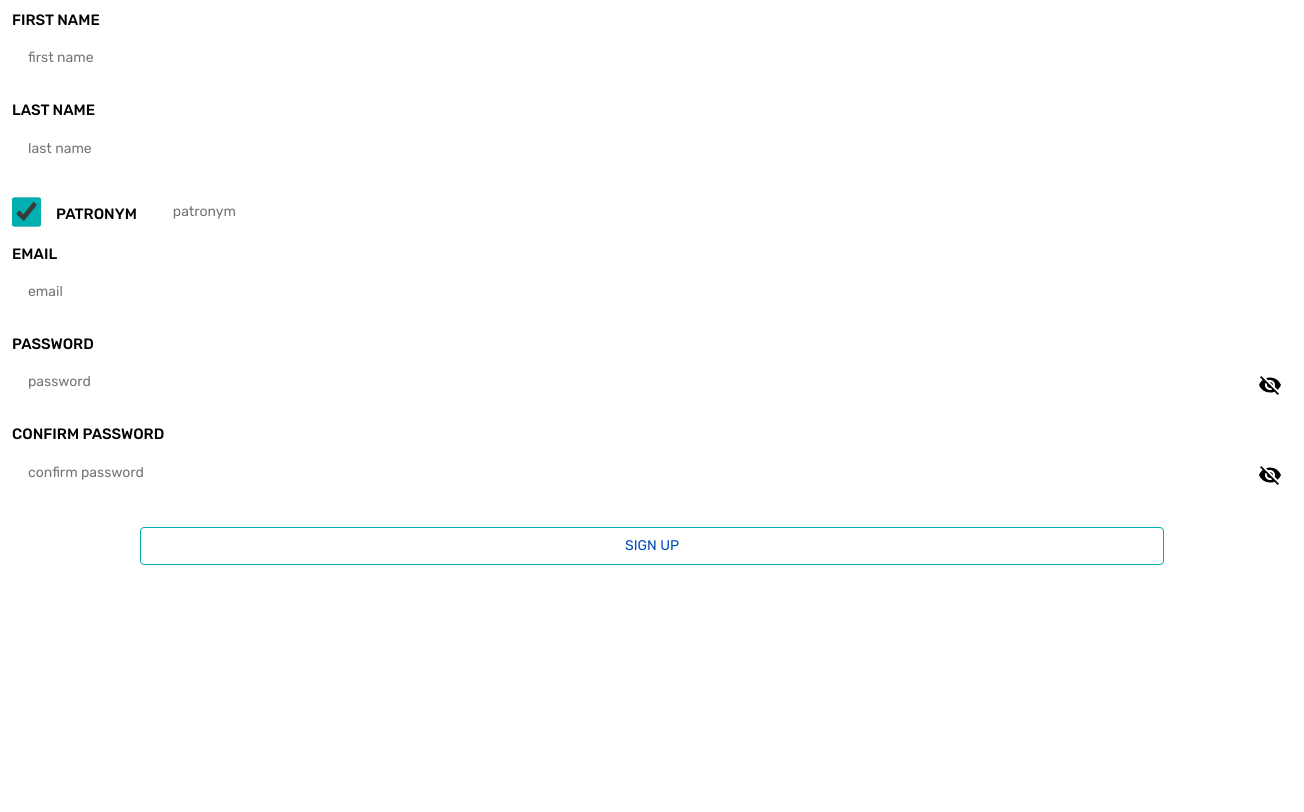
Test: SignUpForm component › Fill SignUpForm and submit with error
The width and height of the screenshot is (1304, 812).
Type "testm" into the field labelled "first name" at x=652, y=58, box [12,39,1292,77]
Type "test" into the field labelled "last name" at x=652, y=149, box [12,130,1292,168]
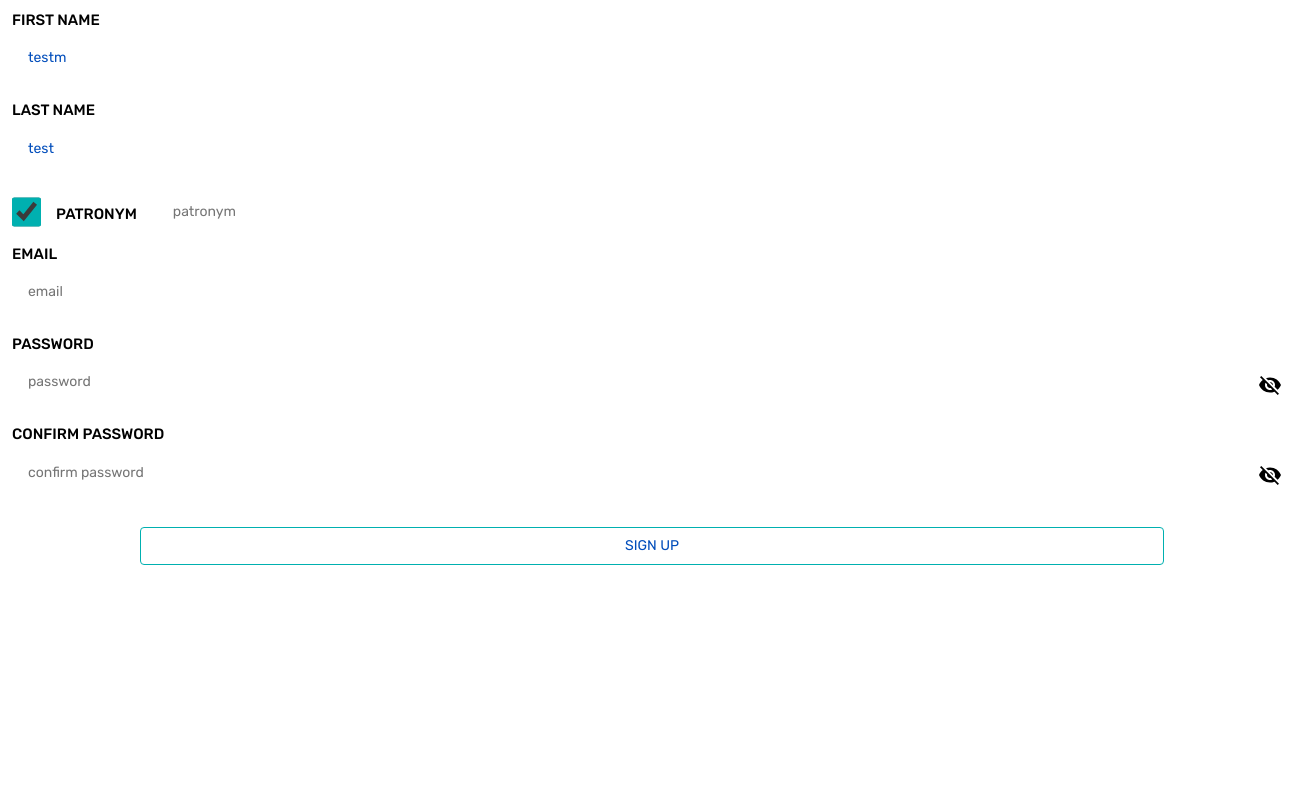
Type "test@test.com" into the field labelled "email" at x=652, y=292, box [12,273,1292,311]
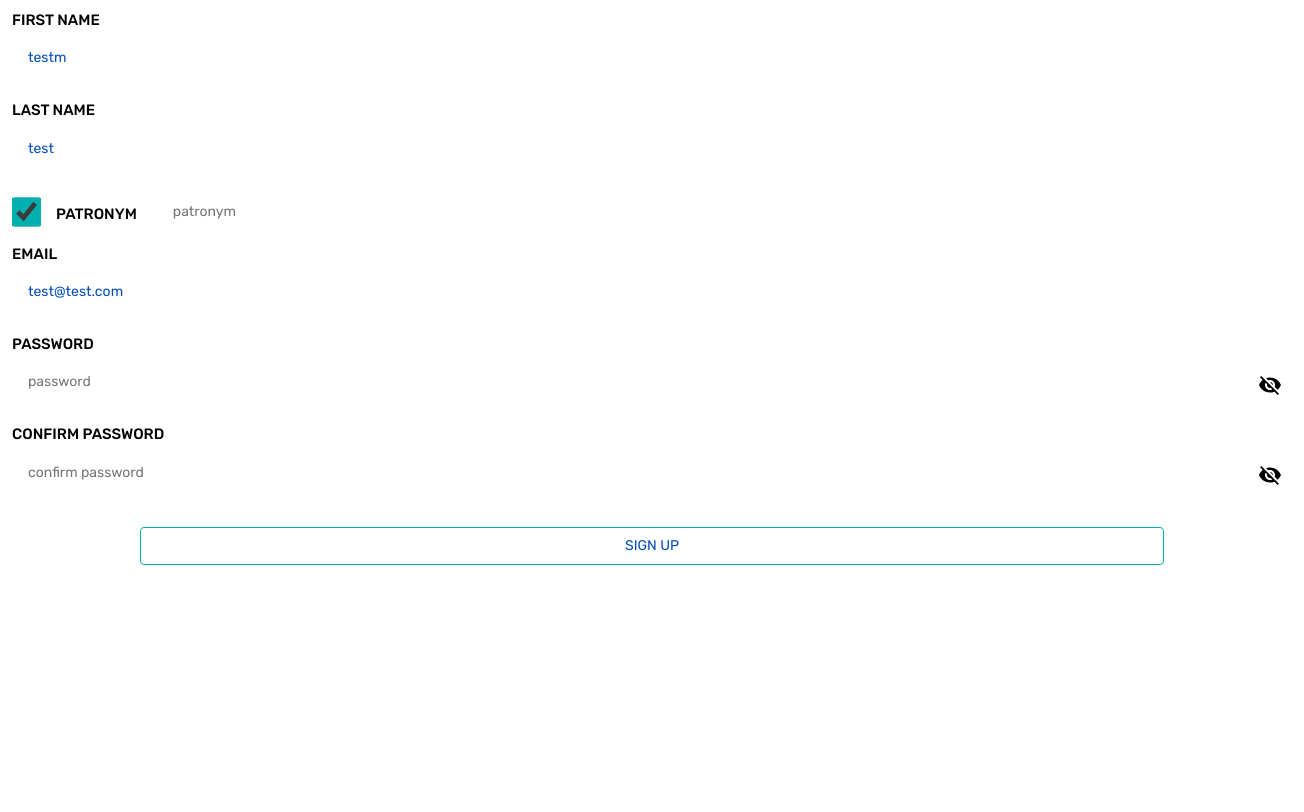
Type "test123" into the password field with test id "sign-up-input-password" at x=652, y=382, box [12,363,1292,402]
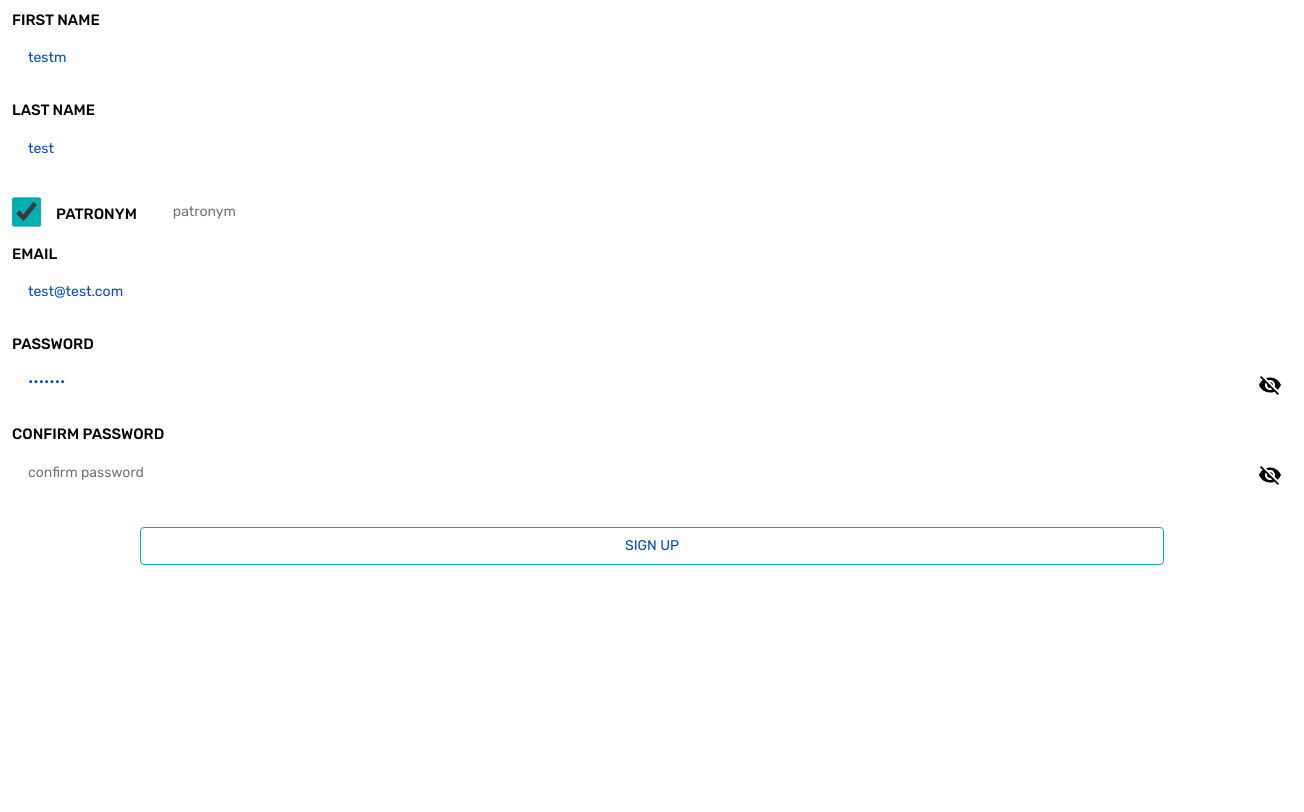
Type "test123" into the password field with test id "sign-up-input-password-confirm" at x=652, y=473, box [12,454,1292,492]
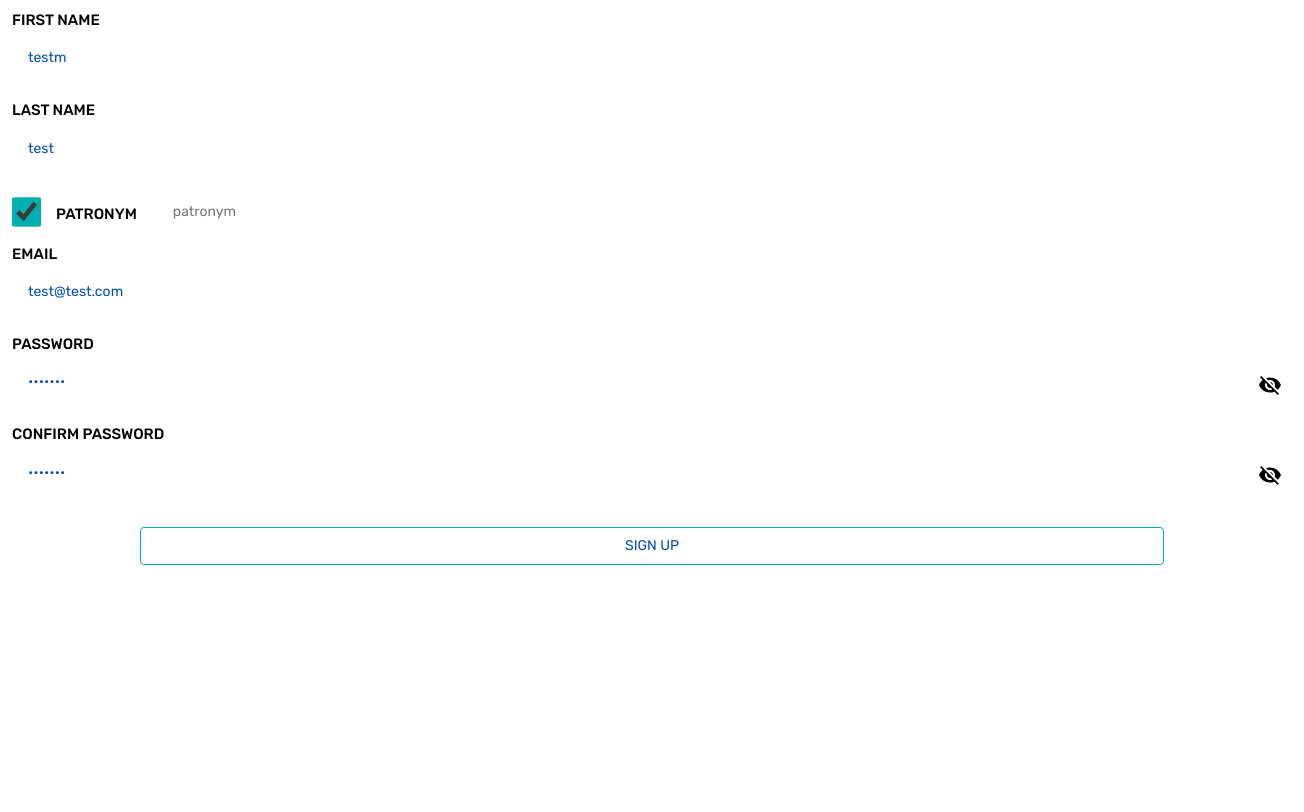
Click the checkbox at x=26, y=212, box [12,197,41,227]
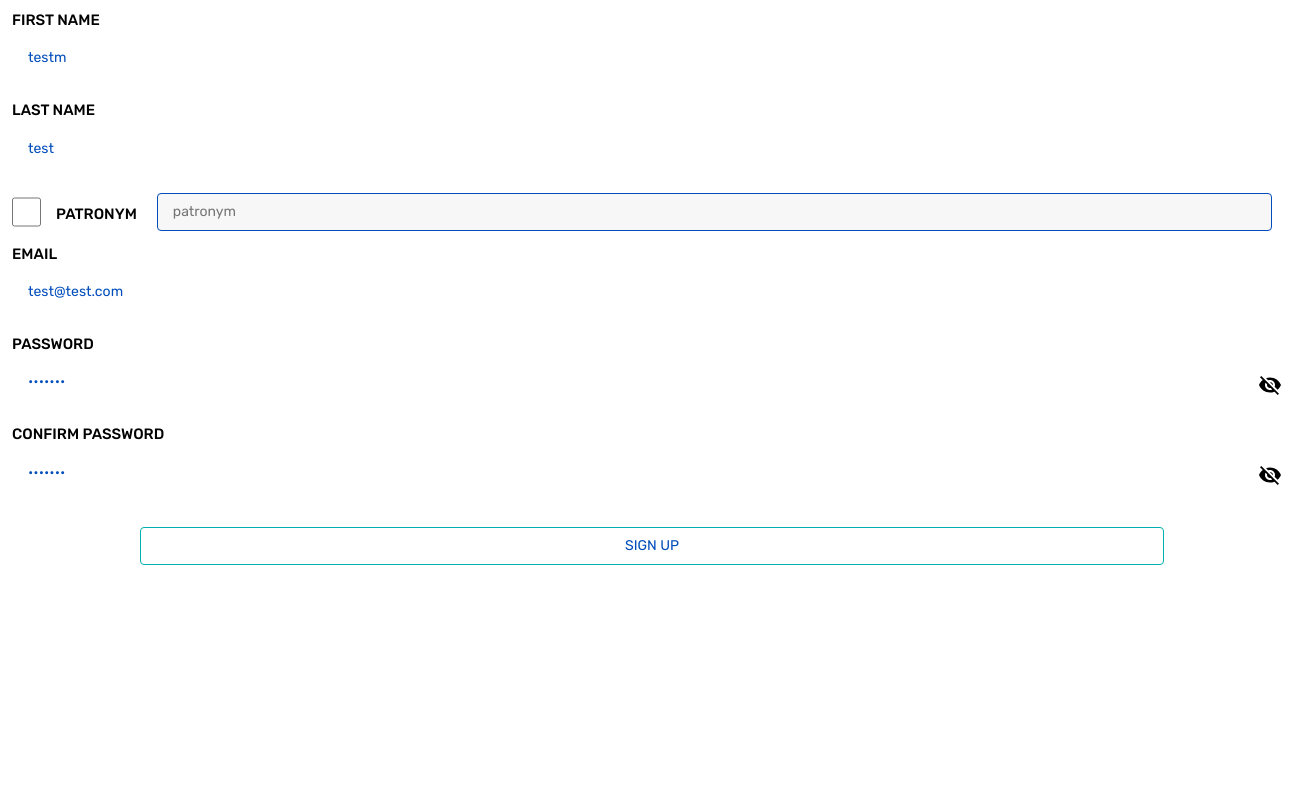
Click the button "sign up" at x=652, y=546, box [140,527,1164,565]
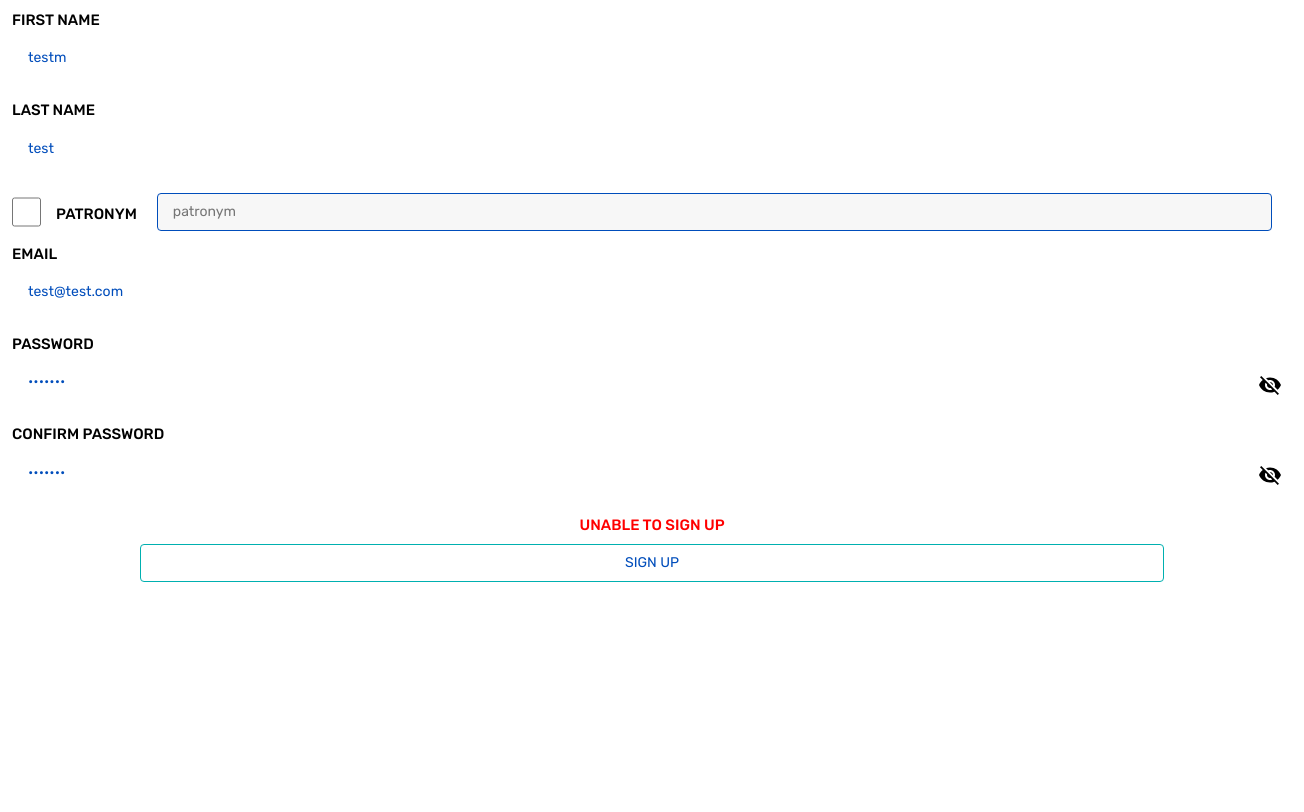
Expected: the text "unable to sign up" is shown, [580,516,725,534]
